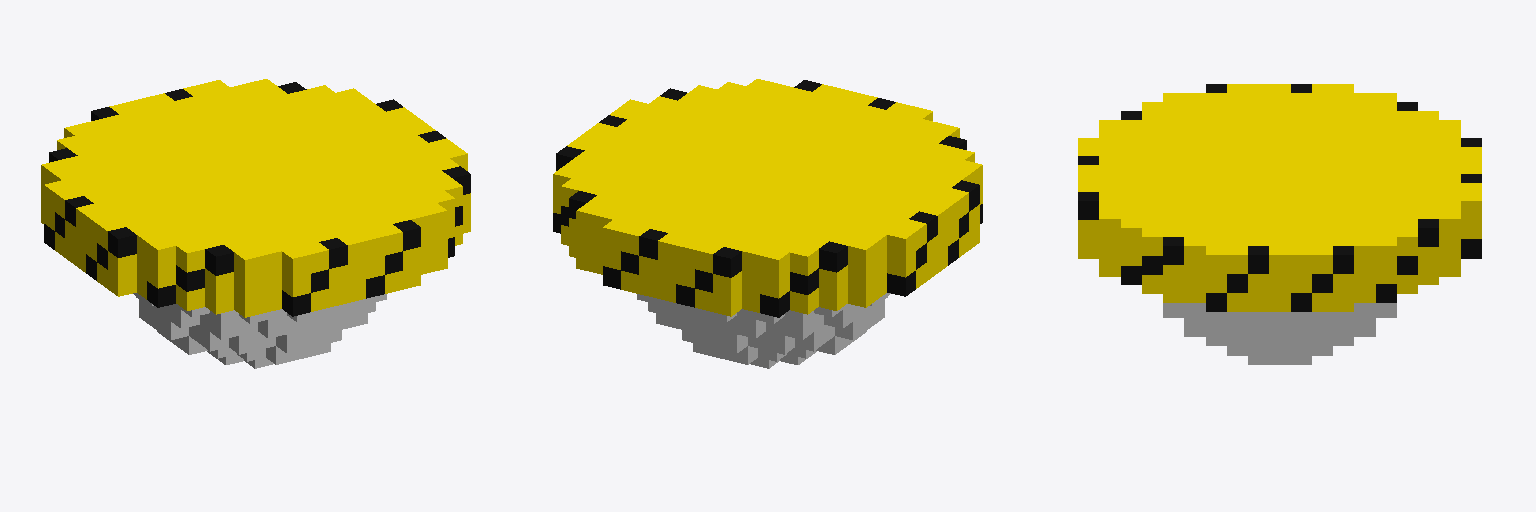
3 renders of one model, left to right at view 1: azimuth 30°, elevation 25°; view 2: azimuth 150°, elevation 25°; view 3: azimuth 270°, elevation 25°, orthographic.
Visible parts, largest first — view 1: platform_hover; view 2: platform_hover; view 3: platform_hover.
Part boxes in pixels (left/top/right/bottom): platform_hover: left=41, top=79, right=470, bottom=368; platform_hover: left=553, top=79, right=982, bottom=368; platform_hover: left=1078, top=84, right=1481, bottom=364.
Size of the model in its own units: 19 by 9 by 19.
1 materials, 1 textured.